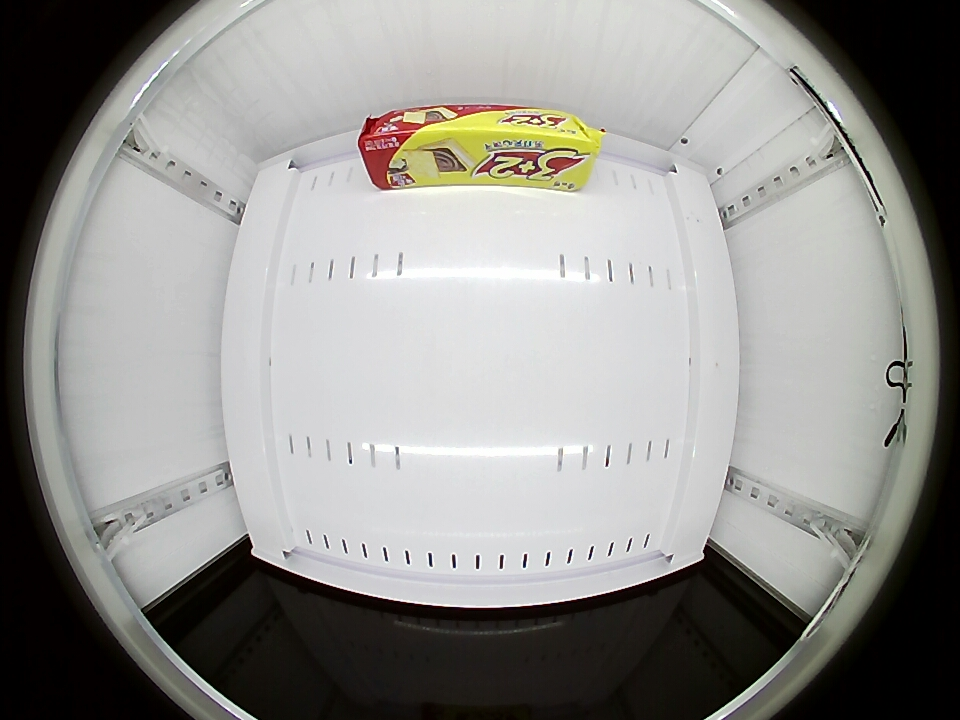3jia2: (360, 104, 603, 188)
